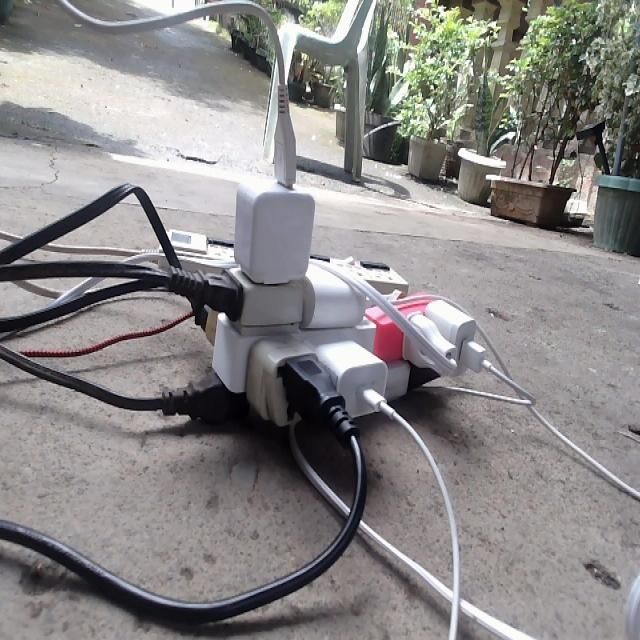-: (176, 158, 490, 442)
